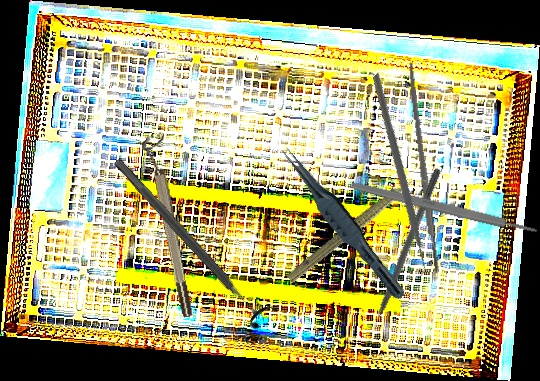Chopper: (289, 72, 502, 285)
Fixation Ring: (104, 149, 279, 332), (140, 133, 196, 320)
Handpiece: (284, 167, 428, 289)
Pusher: (362, 166, 443, 344)
Scalpel Handle: (350, 180, 539, 237), (405, 61, 441, 276)
Tissue Forceps: (272, 142, 415, 303)
